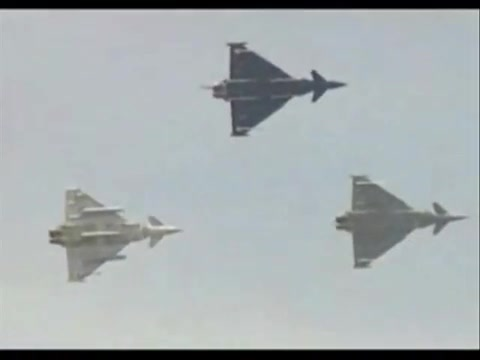aeroplane: (203, 42, 350, 139)
